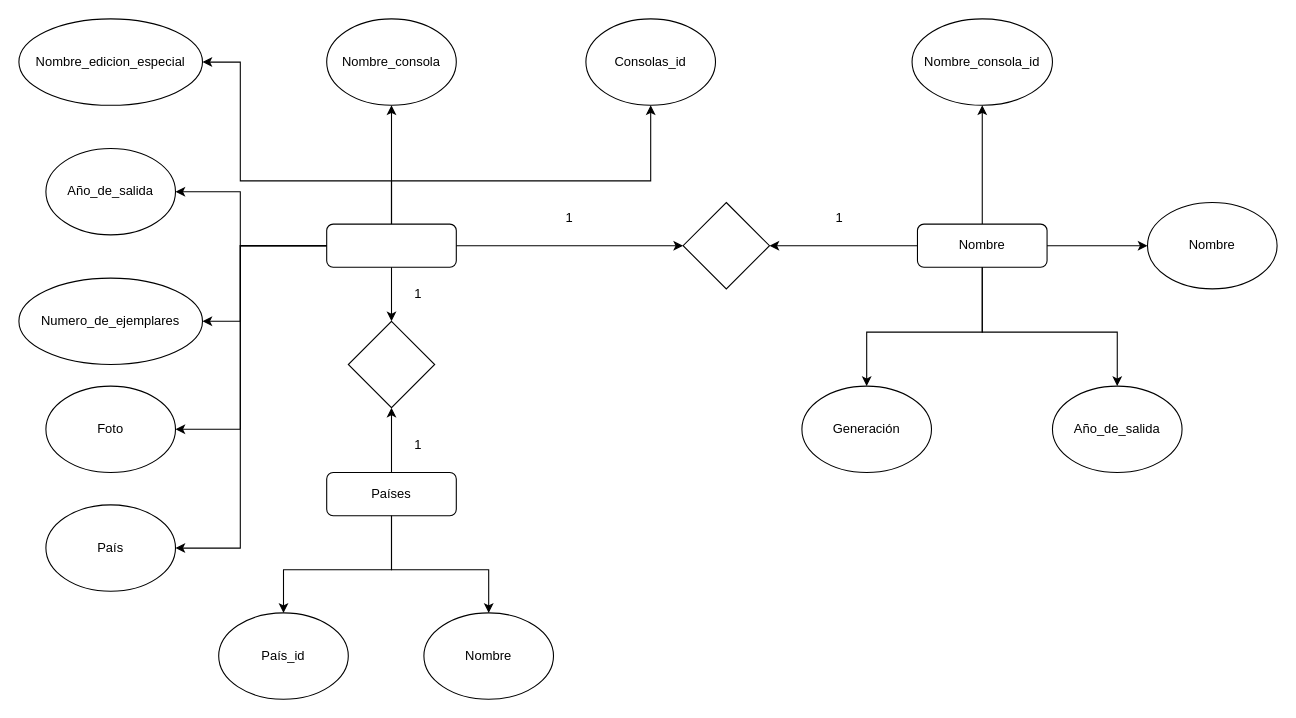
Image size: 1296x718. Some labels were removed from this diagram. Here are the shapes that lost their labels. From the top down, the centre of each, then its label:
the point at 391,245: Consola
the point at 726,245: Pertenece
the point at 391,364: Se fabrica
